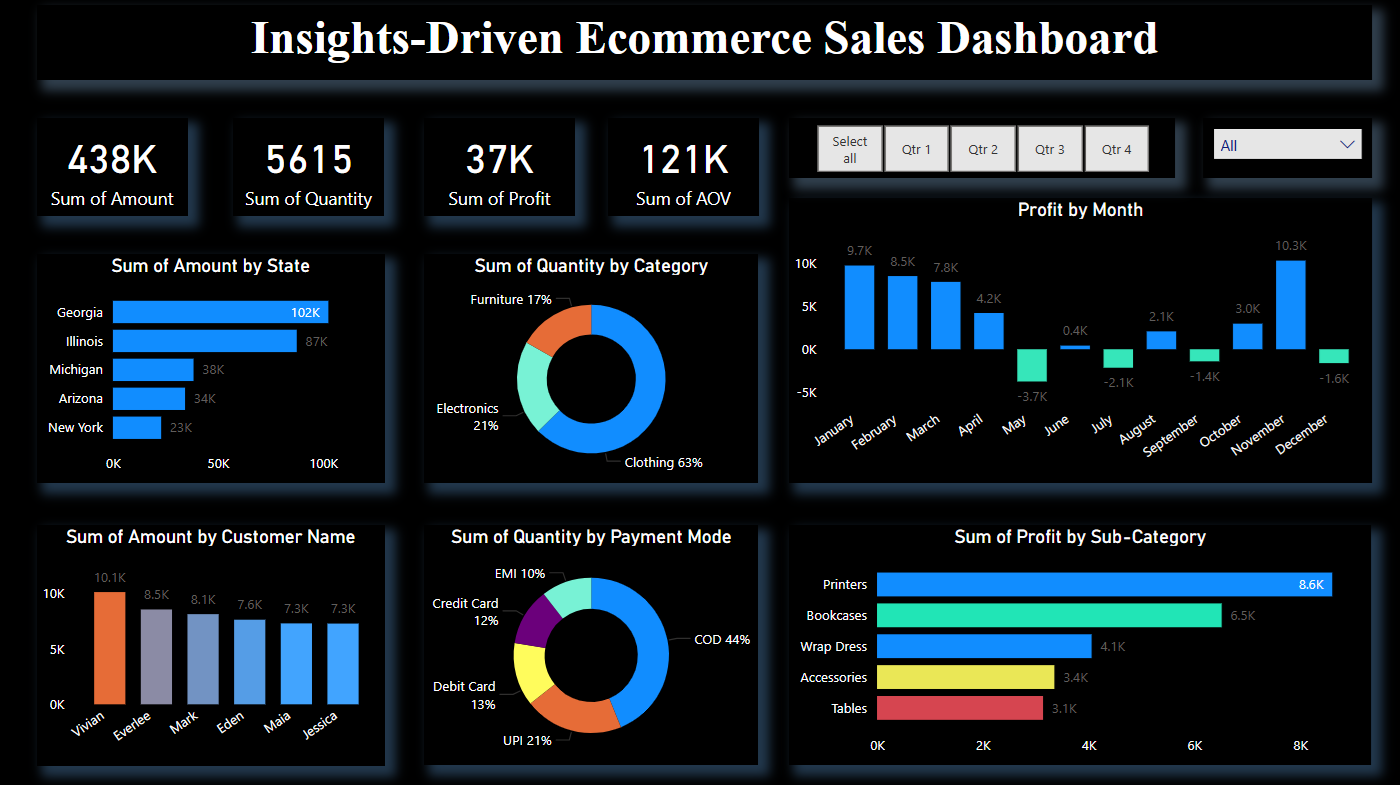

What the dashboard file says about the page in this screenshot:
{"tool":"powerbi","page":{"name":"Sales Dashboard","canvas":[1280,720],"ordinal":0},"visuals":[{"type":"textbox","box":[36,6.8,1213.9,68.1],"z":0},{"type":"columnChart","title":"Profit by Month","fields":{"Y":["Sum(Details.Profit)"],"Category":["Orders.Order Date.Variation.Date Hierarchy.Month"]},"box":[719.8,181.9,530.1,258.7],"z":1000},{"type":"barChart","fields":{"Category":["Details.Sub-Category"],"Y":["Sum(Details.Profit)"]},"box":[720,478.8,529.4,218.1],"z":2000},{"type":"donutChart","fields":{"Category":["Details.Category"],"Y":["Sum(Details.Quantity)"]},"box":[388.4,232.3,304.1,208.4],"z":3000},{"type":"donutChart","title":"Sum of Quantity by Payment Mode","fields":{"Category":["Details.PaymentMode"],"Y":["Sum(Details.Quantity)"]},"box":[388.4,478.8,304.1,218.1],"z":4000},{"type":"card","fields":{"Values":["Sum(Details.Amount)"]},"box":[36.4,109.1,136.6,88.7],"z":5000},{"type":"card","fields":{"Values":["Sum(Details.Quantity)"]},"box":[215,108.9,137.1,88.5],"z":6000},{"type":"card","fields":{"Values":["Sum(Details.Profit)"]},"box":[388.1,108.9,137.1,88.5],"z":7000},{"type":"card","fields":{"Values":["Sum(Details.AOV)"]},"box":[555.4,108.9,137.1,88.5],"z":8000},{"type":"barChart","fields":{"Category":["Orders.State"],"Y":["Sum(Details.Amount)"]},"box":[36.4,232.3,315.7,208.4],"z":9000},{"type":"columnChart","title":"Sum of Amount by Customer Name","fields":{"Y":["Sum(Details.Amount)"],"Category":["Orders.CustomerName"]},"box":[36.4,478.8,315.7,219],"z":10000},{"type":"slicer","fields":{"Values":["Orders.Order Date.Variation.Date Hierarchy.Quarter"]},"box":[719.8,108.9,351.1,55.4],"z":11000},{"type":"slicer","fields":{"Values":["Orders.State"]},"box":[1096.2,108.9,153.7,55.4],"z":12000}]}

Visuals, with their boxes in screenshot pixels (x1, y1, x2, y2), scaled from the page's 1280x720 canvas onto the 1400x785 screenshot:
textbox: bbox(39, 7, 1367, 82)
"Profit by Month" columnChart: bbox(787, 198, 1367, 480)
barChart - Details.Sub-Category x Sum(Details.Profit): bbox(788, 522, 1367, 760)
donutChart - Details.Category x Sum(Details.Quantity): bbox(425, 253, 757, 480)
"Sum of Quantity by Payment Mode" donutChart: bbox(425, 522, 757, 760)
card - Sum(Details.Amount): bbox(40, 119, 189, 216)
card - Sum(Details.Quantity): bbox(235, 119, 385, 215)
card - Sum(Details.Profit): bbox(424, 119, 574, 215)
card - Sum(Details.AOV): bbox(607, 119, 757, 215)
barChart - Orders.State x Sum(Details.Amount): bbox(40, 253, 385, 480)
"Sum of Amount by Customer Name" columnChart: bbox(40, 522, 385, 761)
slicer - Orders.Order Date.Variation.Date Hierarchy.Quarter: bbox(787, 119, 1171, 179)
slicer - Orders.State: bbox(1199, 119, 1367, 179)
